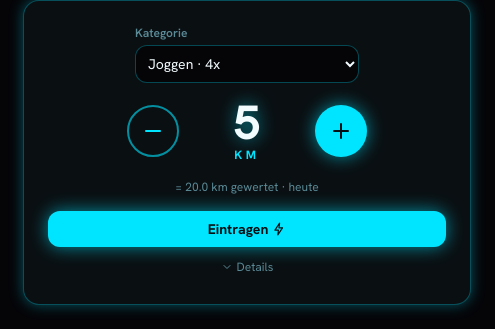
Scenario: SchnellwahlCard › Kategoriewechsel setzt auf deren Standard und merkt die Wahl
Select "Radfahren · 1x" in the dropdown labelled "Kategorie" at {"x": 247, "y": 64}, box [135,45,359,83]
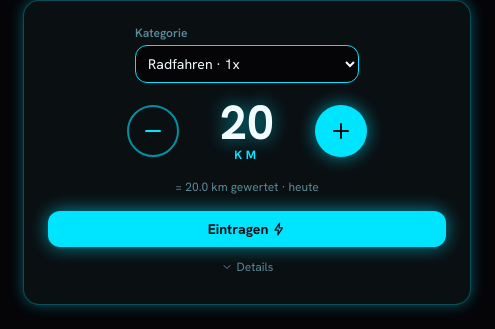
Result: the text with test id "km-wert" reads "20" at [220,91,274,154]
